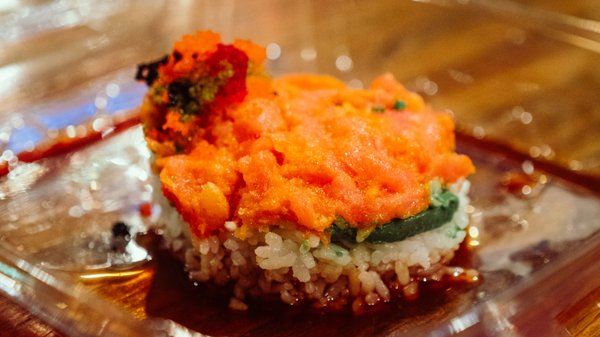soup: (134, 29, 480, 328)
